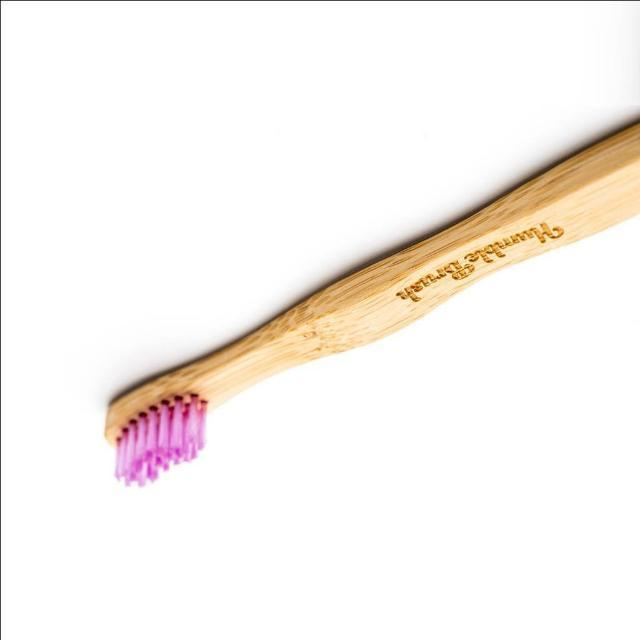toothbrush: (38, 44, 640, 596)
